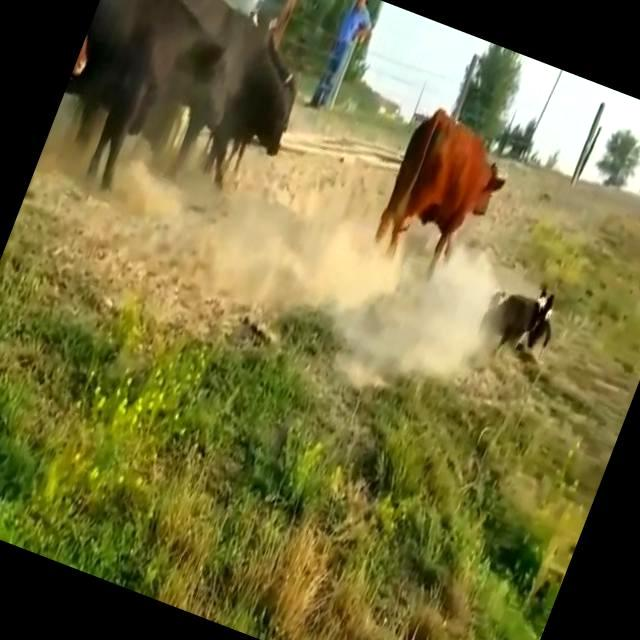COW: (376, 109, 505, 276)
